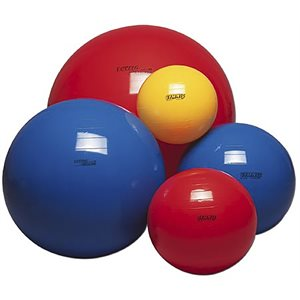blue ball: (2, 98, 166, 260), (175, 122, 296, 235)
red ball: (46, 26, 238, 177), (146, 167, 257, 275)
